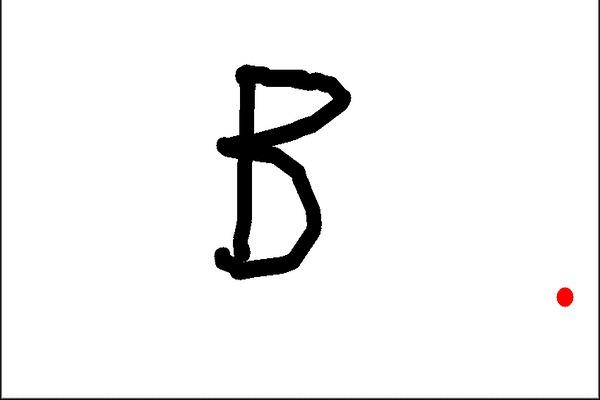B: (202, 55, 359, 286)
